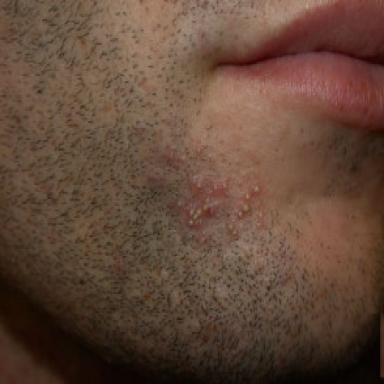acne: (185, 174, 229, 227), (163, 143, 212, 163), (237, 182, 261, 220), (227, 219, 242, 240), (135, 120, 146, 141), (147, 170, 160, 183), (201, 229, 207, 245), (177, 200, 182, 208)
